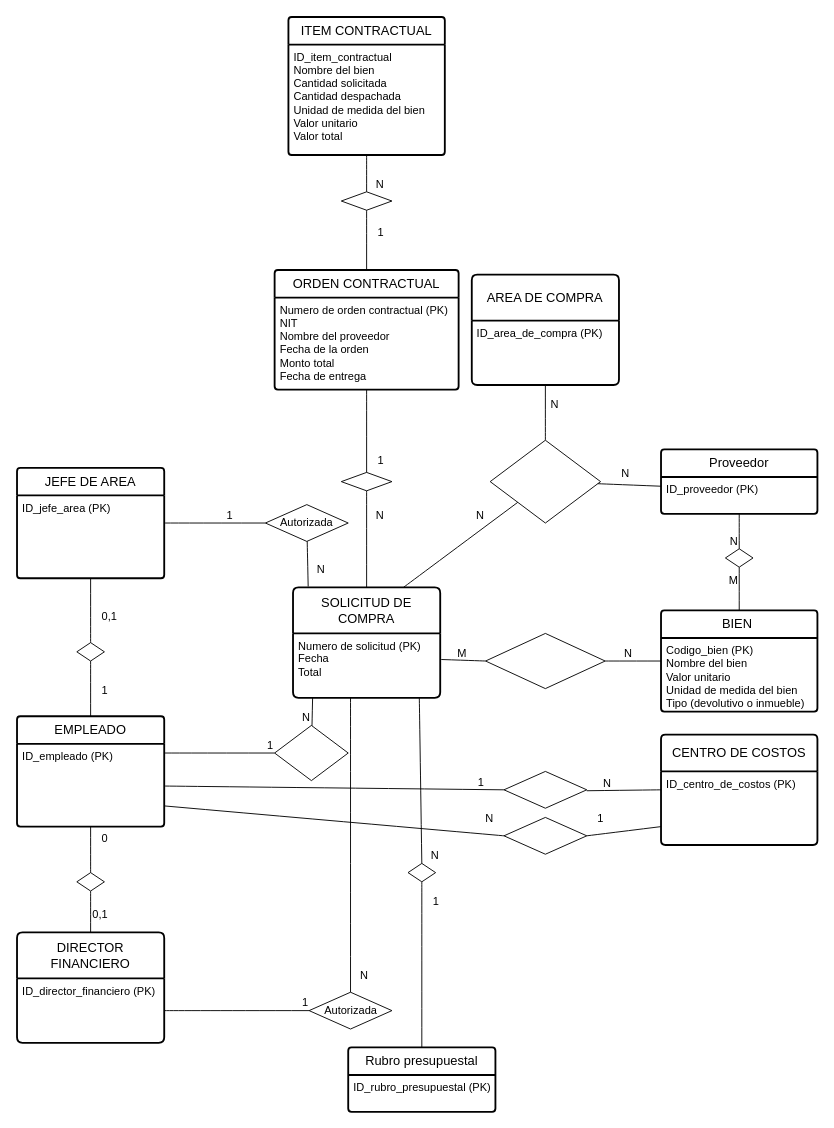
Image size: 834x1128. Some labels were removed from this diagram. The centre of each missing label's shape, as x and y in pixels:
Adscrito: [545,835]
Responsable: [545,789]
Responsable Solicitud: [311,752]
Solicitud item Unidades: [545,660]
Totalizacion Total: [545,481]
